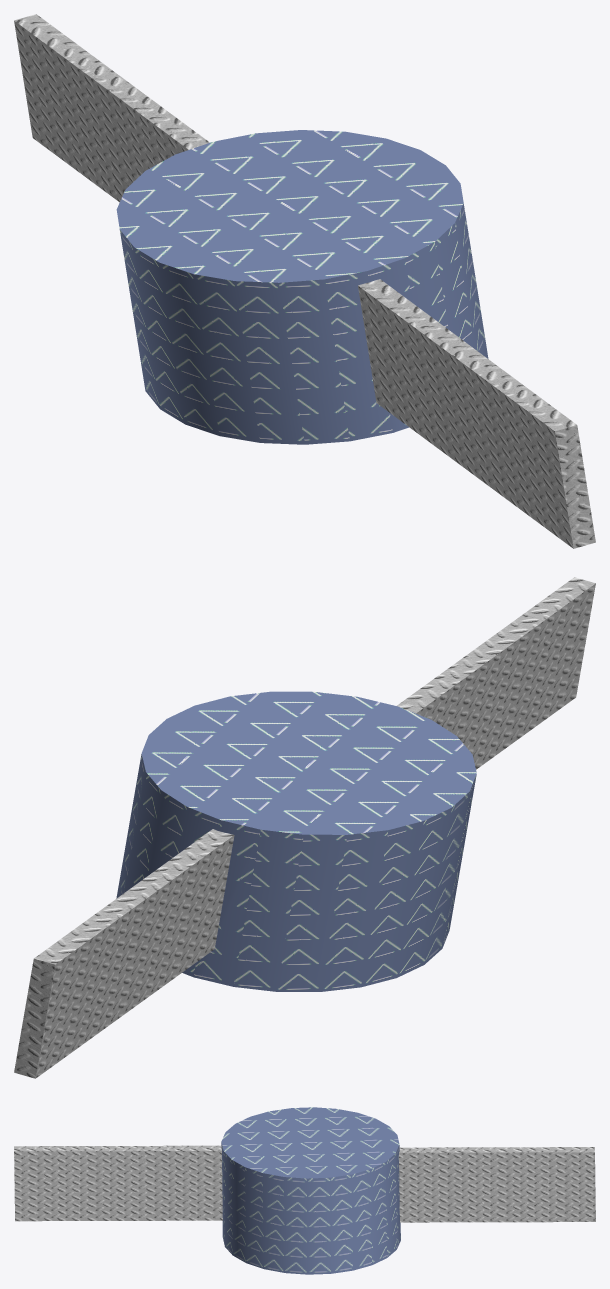
File: power2.dae
3 renders of one model, top to bottom at view 1: azimuth 30°, elevation 25°; view 2: azimuth 150°, elevation 25°; view 3: azimuth 270°, elevation 25°, orthographic. The views are drawn at different scales.
Visible parts, largest first — view 1: SketchUp, SketchUp_003, SketchUp_001; view 2: SketchUp, SketchUp_001, SketchUp_003; view 3: SketchUp, SketchUp_003, SketchUp_001.
Boxes of the visible parts, x1=… form: SketchUp: x1=116, y1=130, x2=488, y2=444; SketchUp_003: x1=358, y1=279, x2=595, y2=548; SketchUp_001: x1=14, y1=14, x2=209, y2=202; SketchUp: x1=116, y1=691, x2=476, y2=991; SketchUp_001: x1=14, y1=829, x2=234, y2=1078; SketchUp_003: x1=397, y1=577, x2=595, y2=769; SketchUp: x1=221, y1=1107, x2=400, y2=1274; SketchUp_003: x1=14, y1=1145, x2=222, y2=1221; SketchUp_001: x1=399, y1=1147, x2=595, y2=1222.
Bounding box in the file's own units: 1.82 × 5.27 × 0.9592.
Materials: 3 (2 with a texture image).
